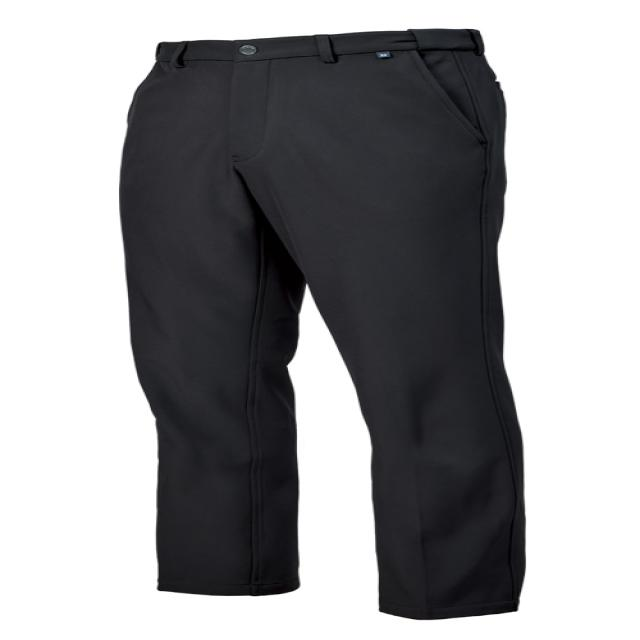pants: (106, 24, 532, 624)
